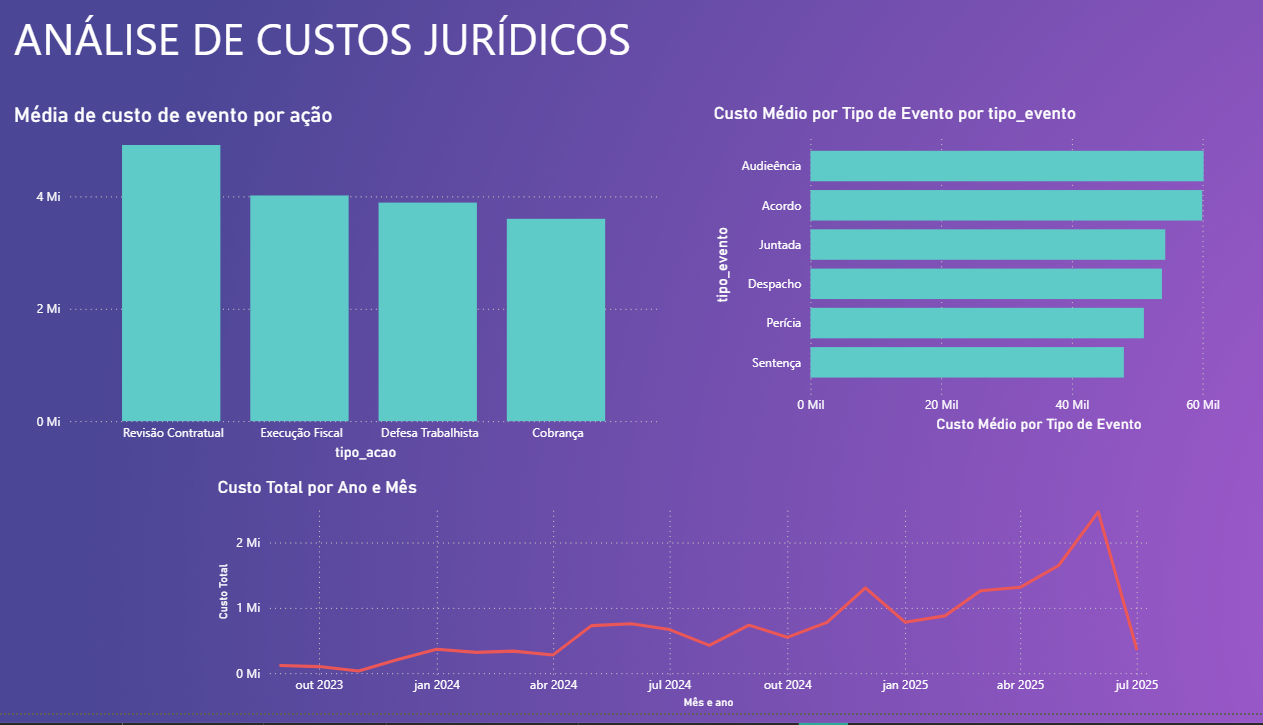

What the dashboard file says about the page in this screenshot:
{"tool":"powerbi","page":{"name":"ANÁLISE DE CUSTOS","canvas":[1280,720],"ordinal":2},"visuals":[{"type":"textbox","box":[9.6,22,644.9,78.2],"z":0},{"type":"columnChart","title":"Média de custo de evento por ação","fields":{"Category":["public processo.tipo_acao"],"Y":["Sum(public movimentacao.custo_evento)"]},"box":[9.6,120.8,644.9,356.8],"z":1000},{"type":"barChart","fields":{"Y":["public movimentacao.Custo Médio por Tipo de Evento"],"Category":["public movimentacao.tipo_evento"]},"box":[697.1,120.8,570.8,329.3],"z":2000},{"type":"lineChart","fields":{"Category":["public movimentacao.data_evento.Variation.Hierarquia de datas.Ano","public movimentacao.data_evento.Variation.Hierarquia de datas.Mês"],"Y":["public movimentacao.Custo Total"]},"box":[209.9,487.1,933.1,233.3],"z":3000}]}

Visuals, with their boxes in screenshot pixels (x1, y1, x2, y2), scaled from the page's 1280x720 canvas onto the 1263x725 screenshot:
textbox: {"x1": 9, "y1": 22, "x2": 646, "y2": 101}
"Média de custo de evento por ação" columnChart: {"x1": 9, "y1": 122, "x2": 646, "y2": 481}
barChart - public movimentacao.Custo Médio por Tipo de Evento x public movimentacao.tipo_evento: {"x1": 688, "y1": 122, "x2": 1251, "y2": 453}
lineChart - public movimentacao.data_evento.Variation.Hierarquia de datas.Ano x public movimentacao.data_evento.Variation.Hierarquia de datas.Mês: {"x1": 207, "y1": 490, "x2": 1128, "y2": 724}
